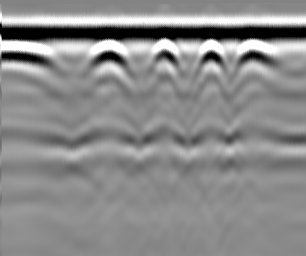steel: (1, 41, 56, 69), (84, 38, 132, 68), (235, 40, 277, 66), (147, 39, 185, 66), (194, 41, 228, 70)
